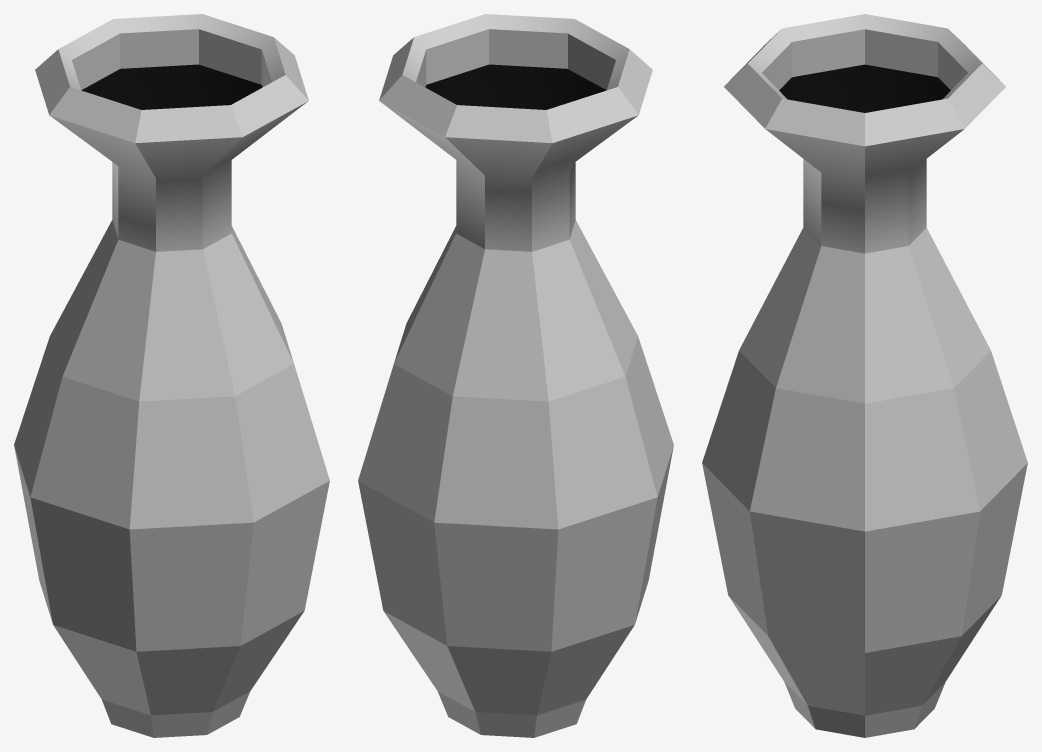
File: VASE.fbx
3 views of the same model, side by side, from view 1: azimuth 30°, elevation 25°; view 2: azimuth 150°, elevation 25°; view 3: azimuth 270°, elevation 25° (orthographic).
Visible parts, largest first — view 1: polySurface2; view 2: polySurface2; view 3: polySurface2.
Part boxes in pixels (x1=…): polySurface2: x1=14, y1=14, x2=329, y2=737; polySurface2: x1=358, y1=14, x2=673, y2=737; polySurface2: x1=702, y1=14, x2=1027, y2=737.
Size of the model in its own units: 21.96 by 47.96 by 21.96.
